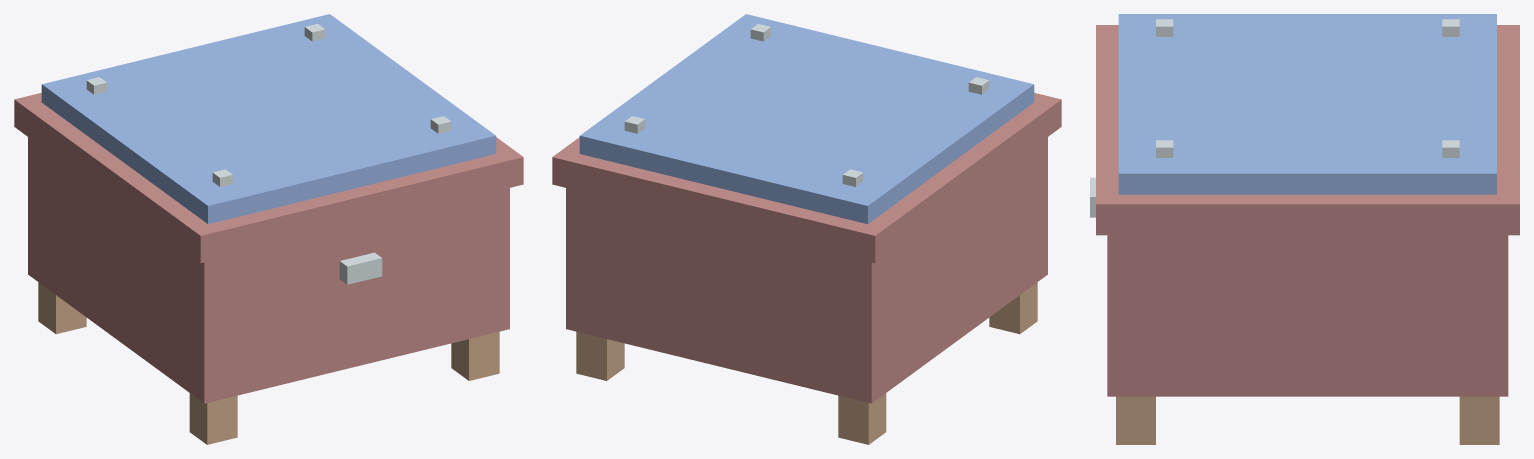
Rendered from ottomanStorage.glb.
The picture shows the model from 3 angles, left to right: view 1: azimuth 30°, elevation 25°; view 2: azimuth 150°, elevation 25°; view 3: azimuth 270°, elevation 25°; orthographic projection. The views are drawn at different scales.
Parts seen in each view (by area): view 1: ottomanStorage; view 2: ottomanStorage; view 3: ottomanStorage.
Part boxes in pixels (bbox=[...]): ottomanStorage: bbox=[14, 14, 523, 444]; ottomanStorage: bbox=[552, 14, 1061, 444]; ottomanStorage: bbox=[1090, 14, 1519, 444].
Size of the model in its own units: 0.37 by 0.27 by 0.375.
